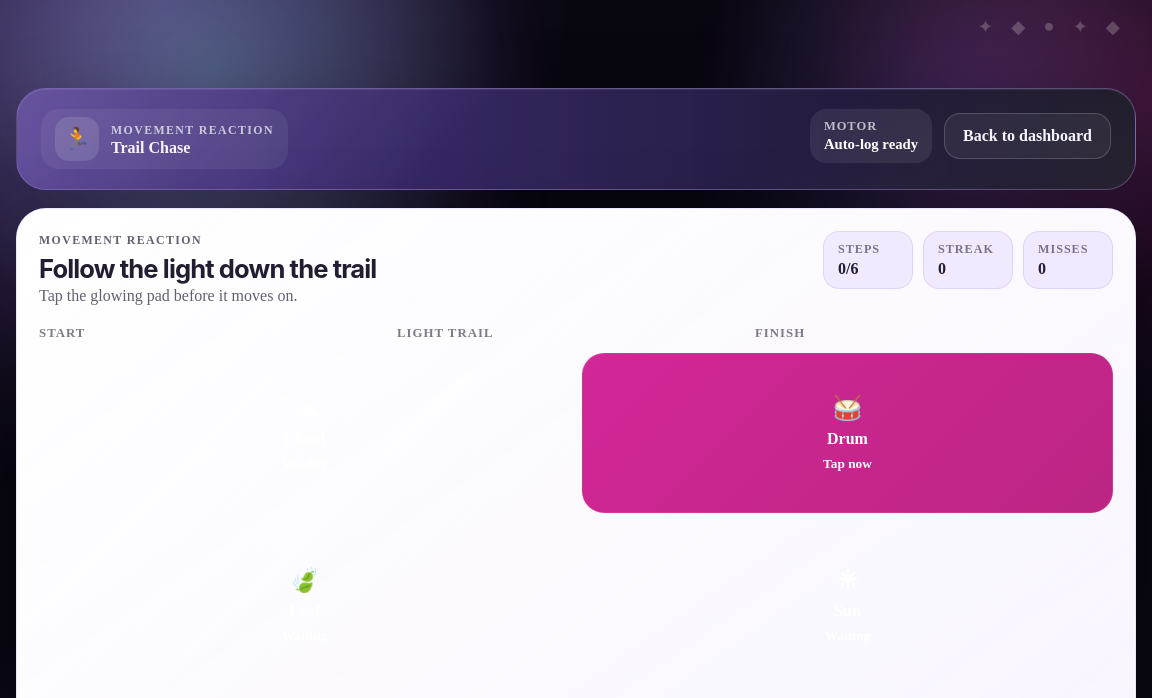
Scenario: frontend smoke flows › opens the motor game in a dedicated page and auto-logs on completion
Expected: the text "Trail Chase" is shown, [111,139,190,156]
Click the button "🥁 Drum Tap now". click: (848, 433)
box: [582,353,1113,513]
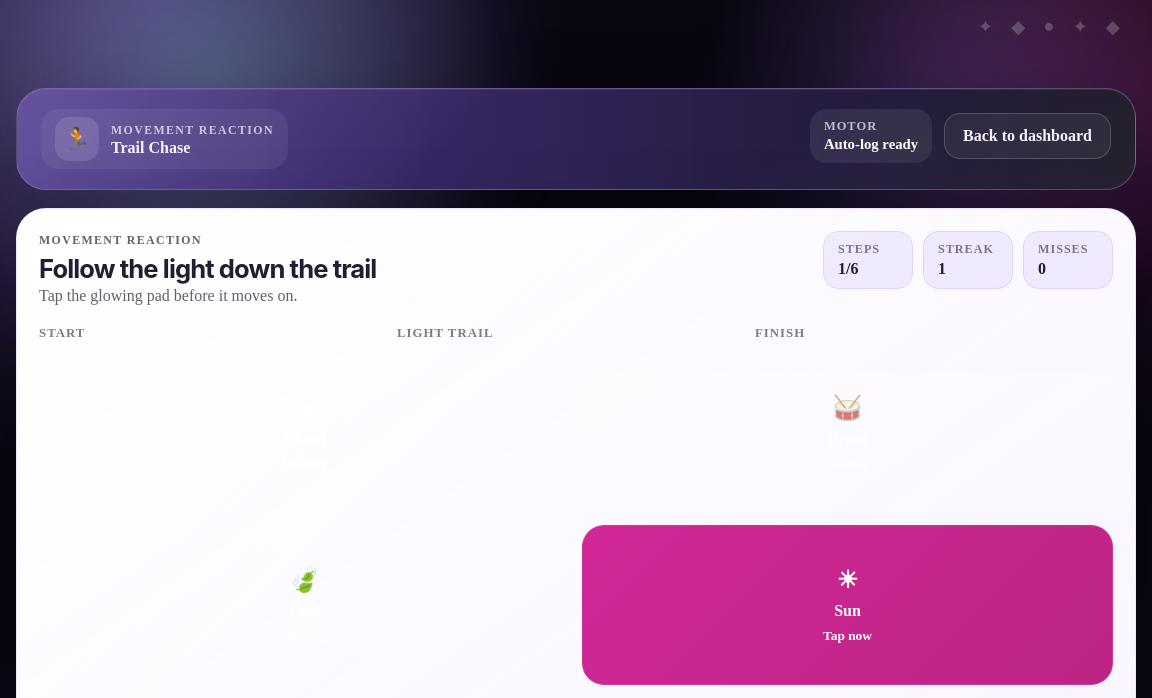
Click the button "☀ Sun Tap now". click: (848, 605)
box: [582,525,1113,685]
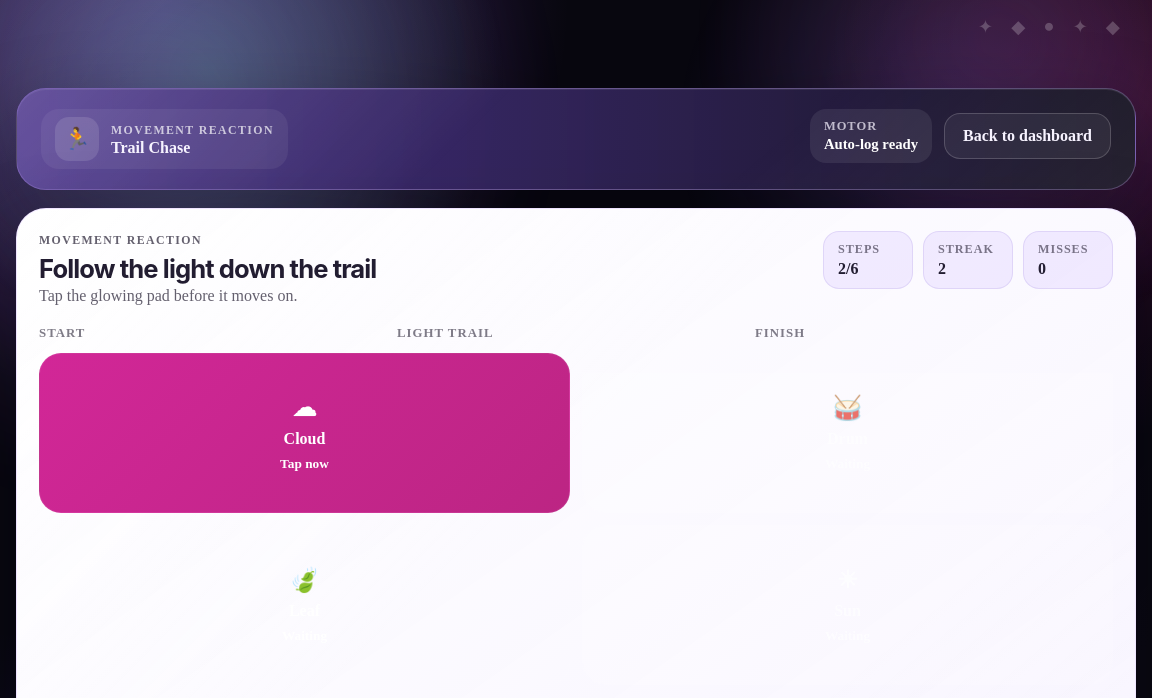
Click the button "☁ Cloud Tap now". click: (304, 433)
box: [39,353,570,513]
(page scrolled)
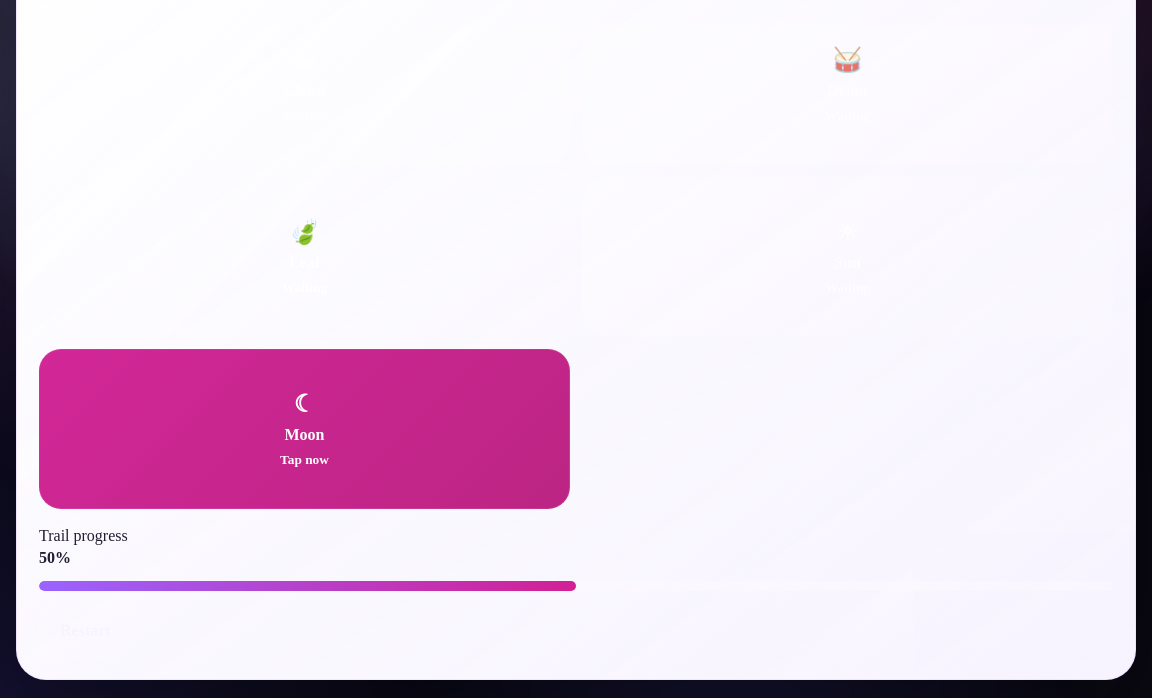
Click the button "☾ Moon Tap now". click: (304, 429)
box: [39,349,570,509]
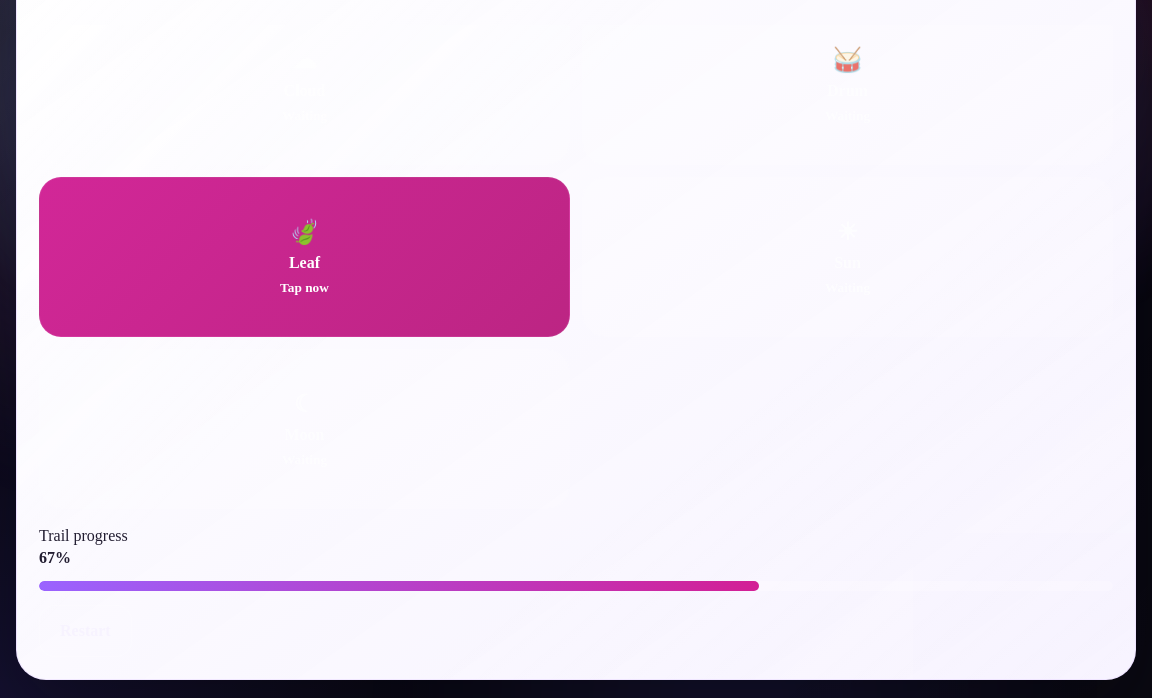
Click the button "🍃 Leaf Tap now". click: (304, 257)
box: [39,177,570,337]
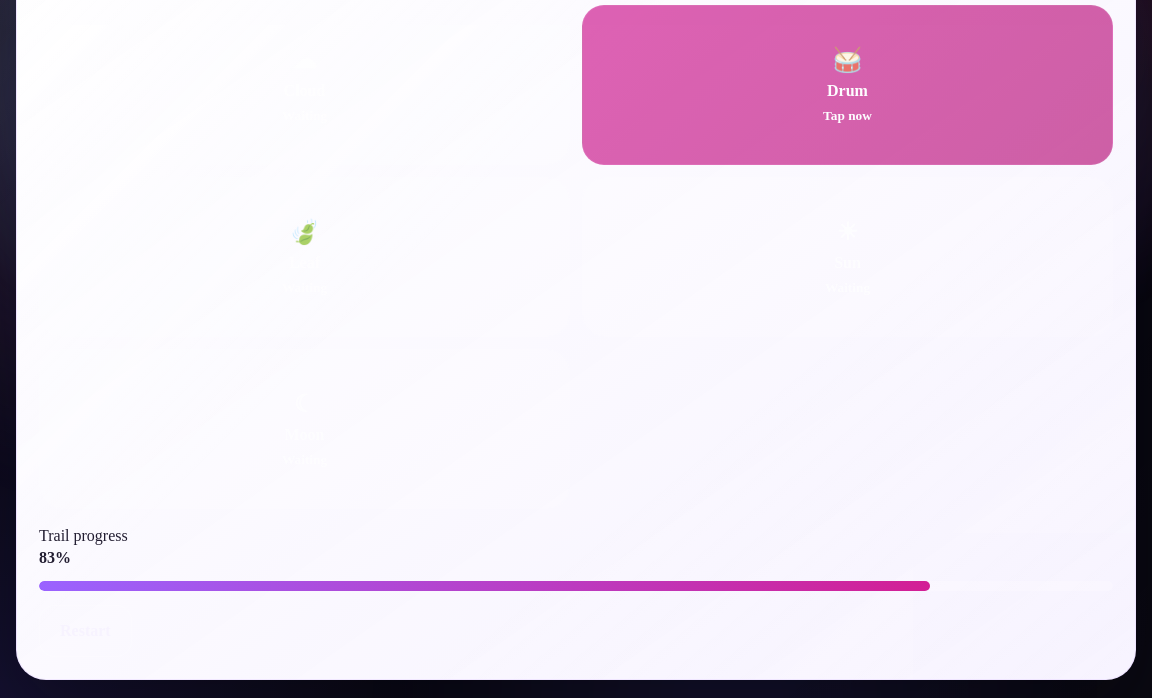
Click the button "🥁 Drum Tap now". click: (848, 85)
box: [582,5,1113,165]
(page scrolled)
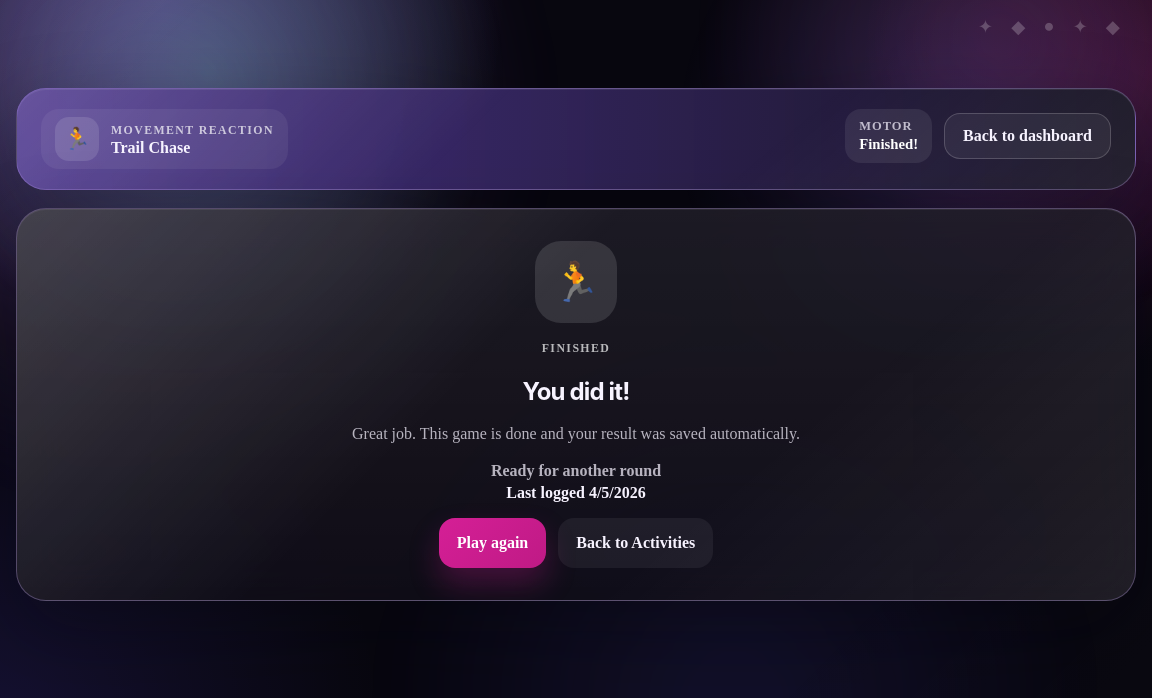
Now the heading "You did it!" is shown, box [523,376,630,406]
Now the button "Play again" is shown, box [439,518,546,568]
